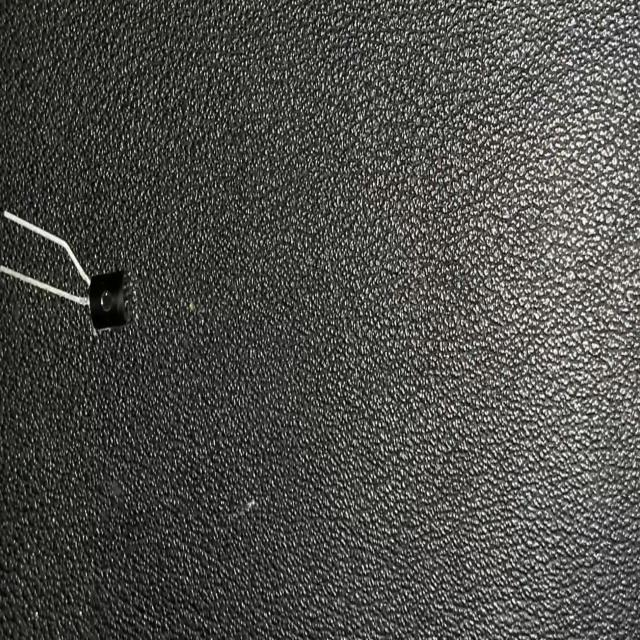missing-leg: (0, 208, 132, 330)
